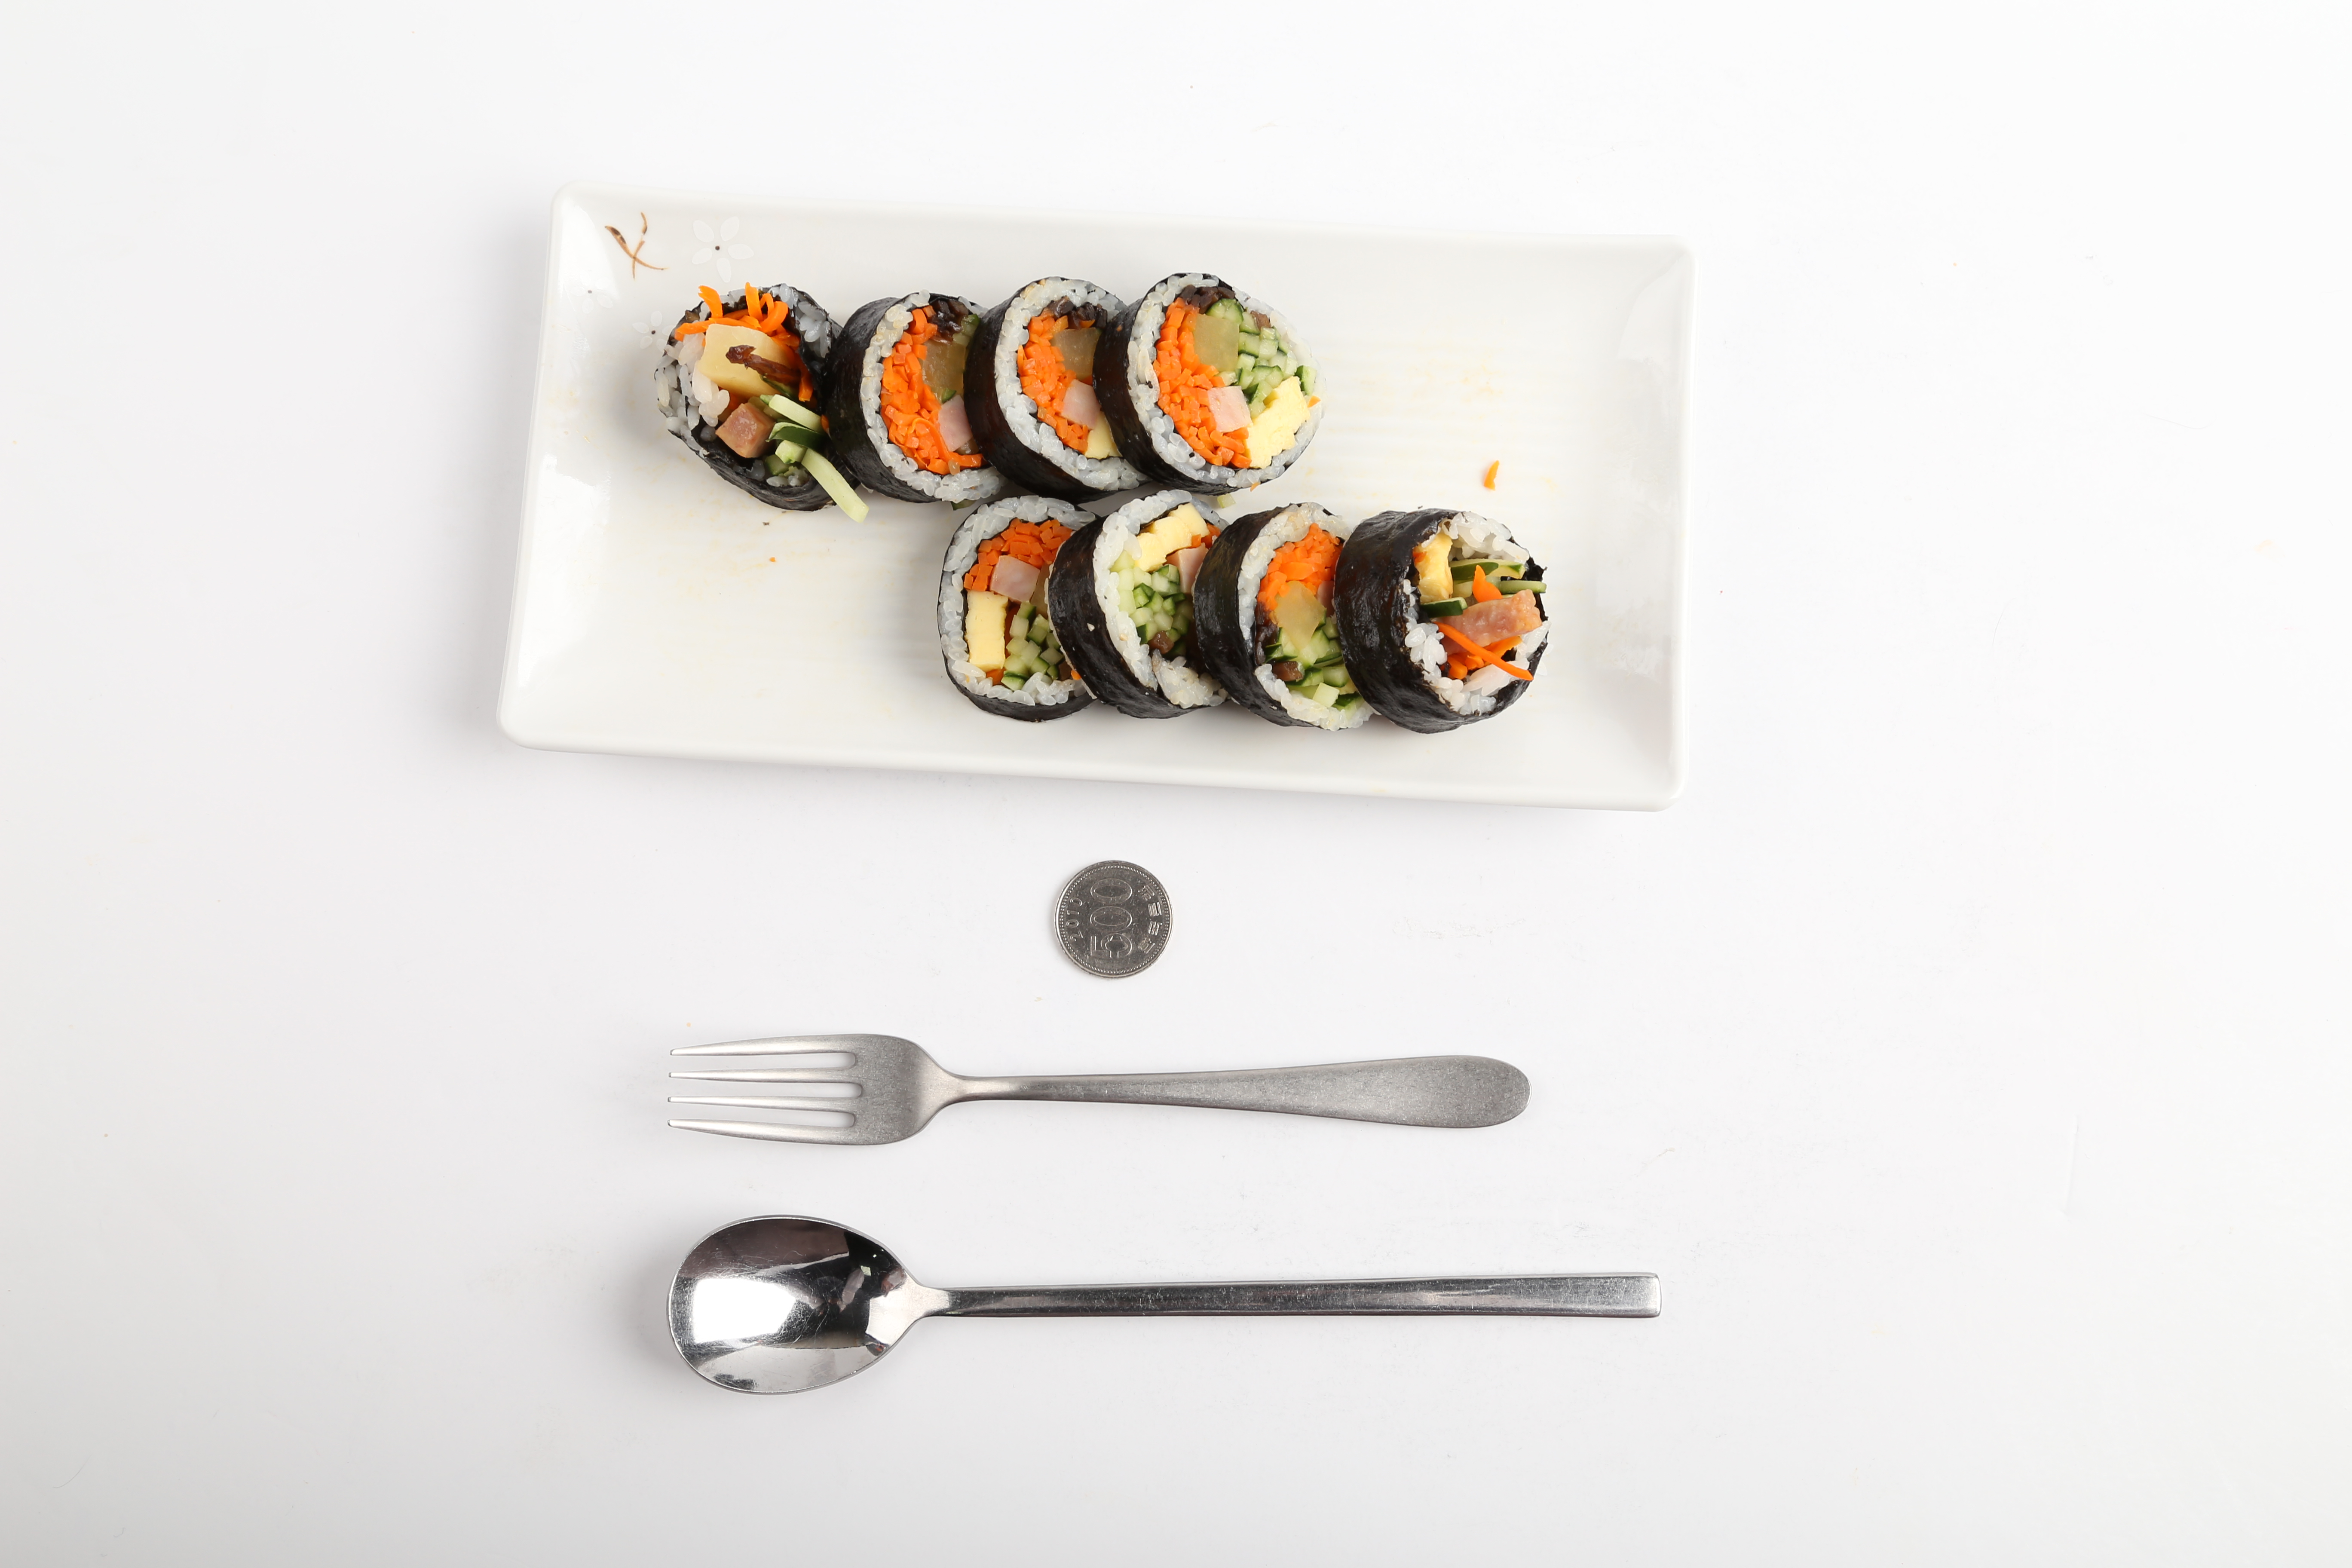dish: (493, 175, 1699, 812)
ref_coin: (1041, 854, 1179, 983)
ref_fork: (658, 1024, 1038, 1155)
ref_spoon: (665, 1209, 1011, 1398)
김밥: (653, 273, 1550, 738)
